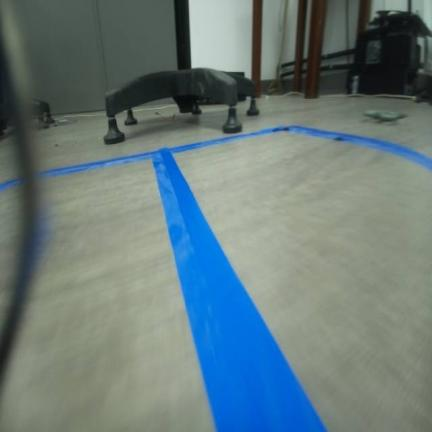place: (0, 144, 326, 427), (149, 124, 431, 430)
